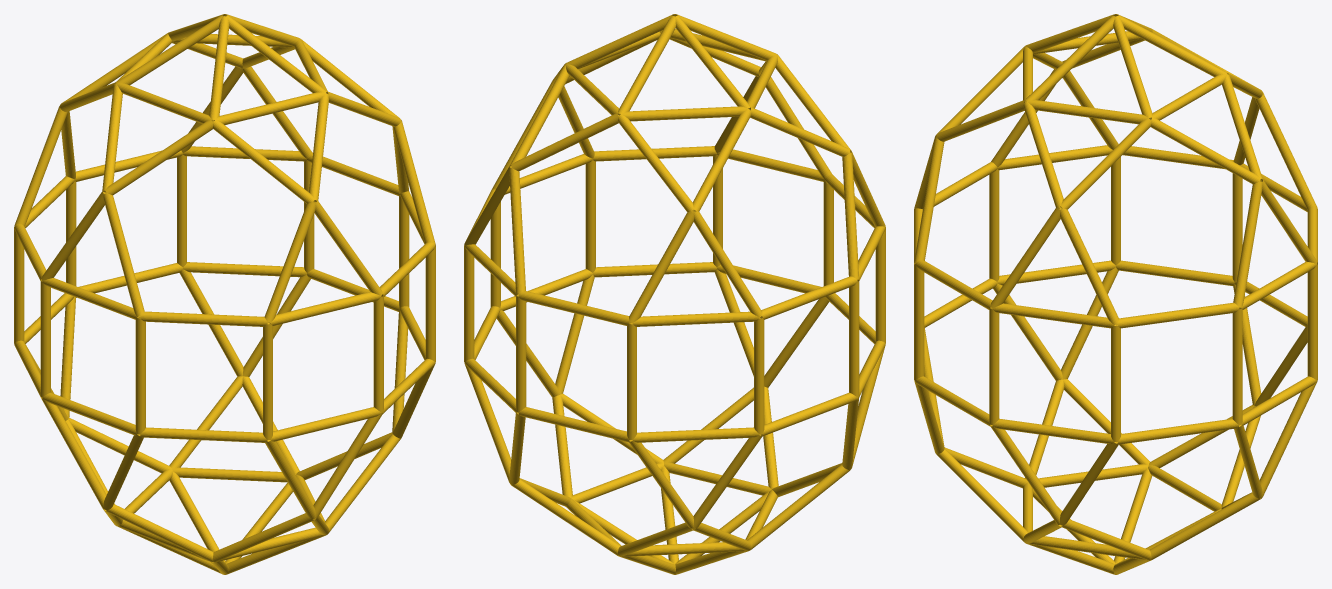
Rendered from trinexus2_1.glb.
3 views of the same model, side by side, from view 1: azimuth 30°, elevation 25°; view 2: azimuth 150°, elevation 25°; view 3: azimuth 270°, elevation 25° (orthographic).
Parts seen in each view (by area): view 1: Mesh_35.001; view 2: Mesh_35.001; view 3: Mesh_35.001.
Part boxes in pixels (x1=…): Mesh_35.001: x1=14, y1=14, x2=435, y2=574; Mesh_35.001: x1=464, y1=14, x2=885, y2=574; Mesh_35.001: x1=914, y1=14, x2=1317, y2=574.
Size of the model in its own units: 4.97 by 7.23 by 4.74.
